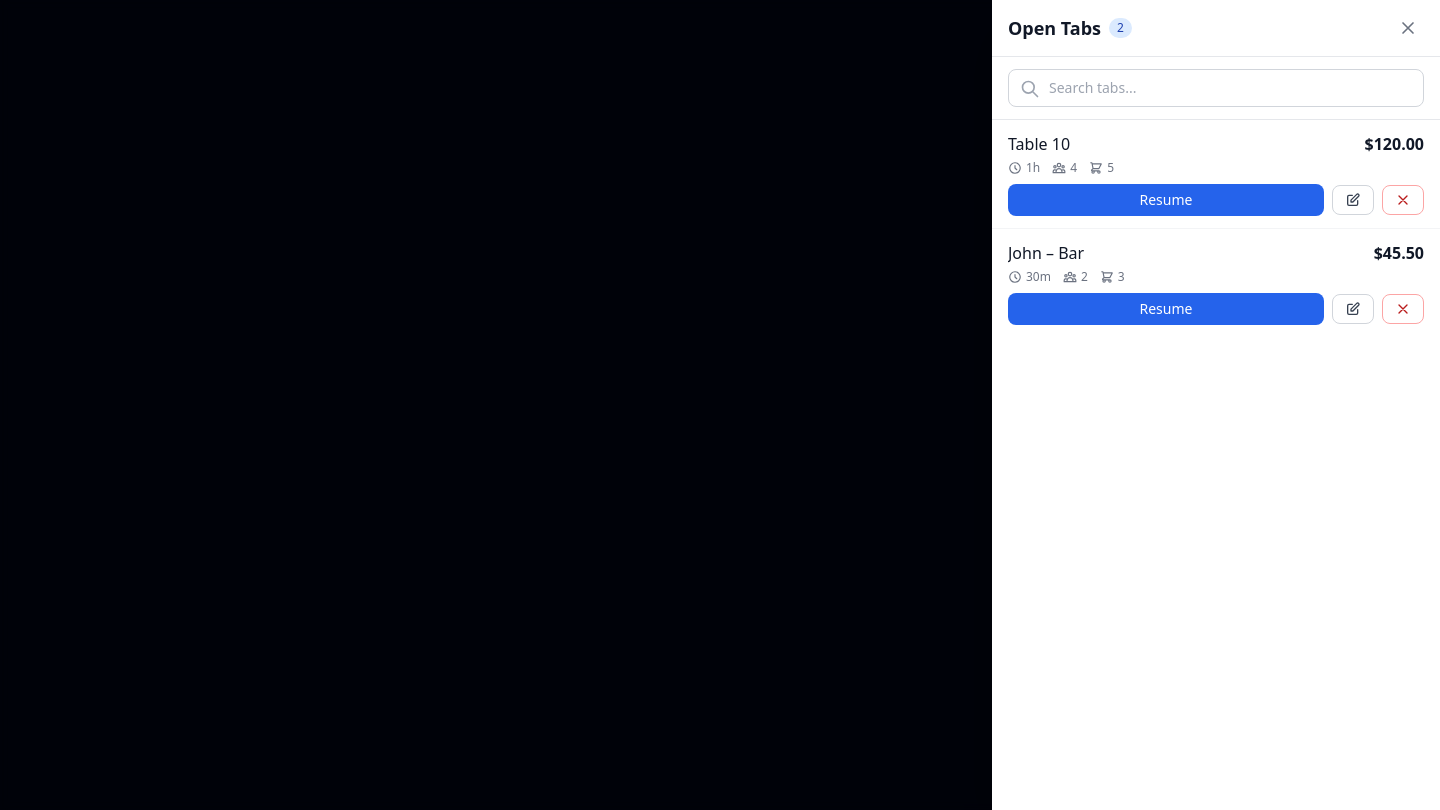
Test: PosTabsSidebar › shows empty state when search has no matches
Type "nonexistent" into the field with placeholder "Search tabs..." at (1216, 88), box x1=1008 y1=69 x2=1424 y2=107
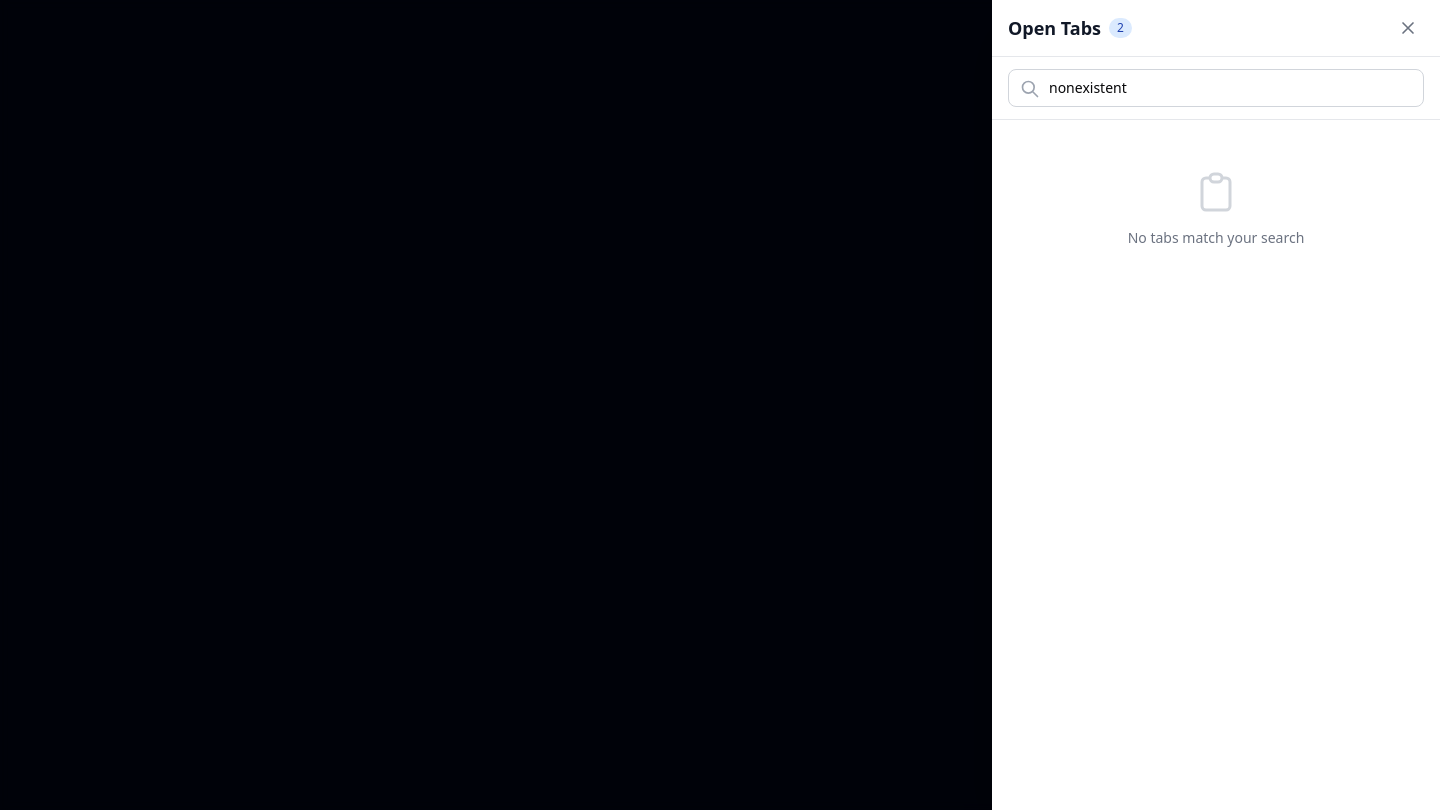
expect the text "No tabs match your search" is shown: met, box x1=1128 y1=228 x2=1304 y2=248
